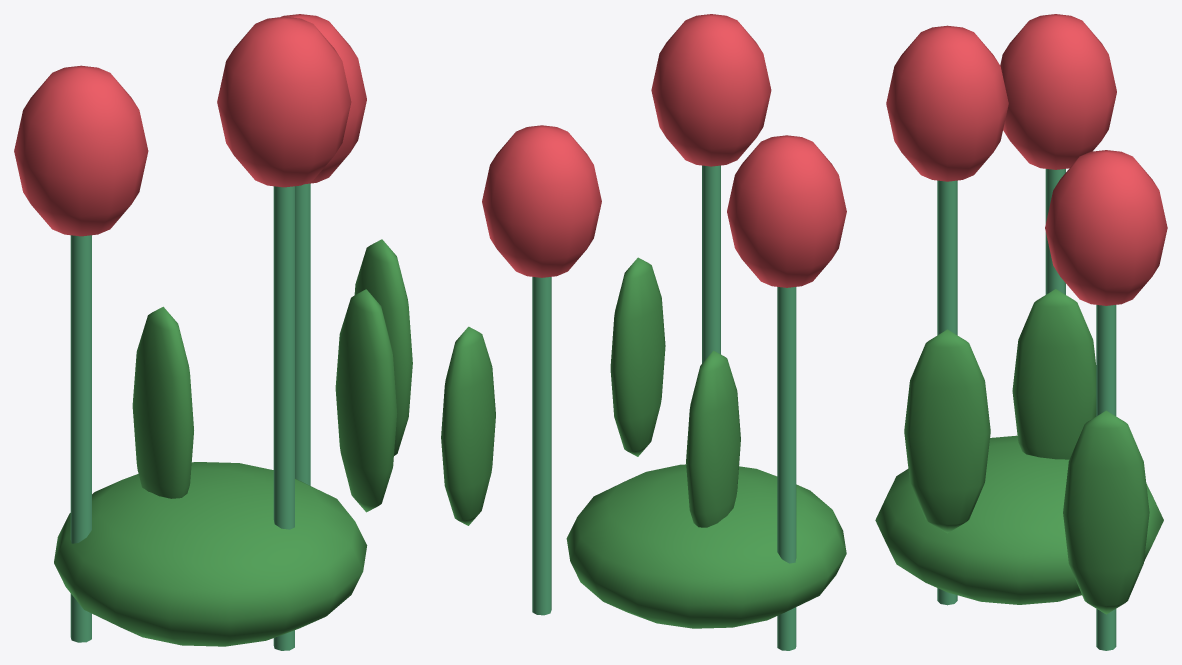
The model's file is tulips.glb.
3 renders of one model, left to right at view 1: azimuth 30°, elevation 25°; view 2: azimuth 150°, elevation 25°; view 3: azimuth 270°, elevation 25°, orthographic. The views are drawn at different scales.
Parts seen in each view (by area): view 1: tulips; view 2: tulips; view 3: tulips.
Part boxes in pixels (x1,y1,x2,y2): tulips: [14, 14, 412, 650]; tulips: [441, 14, 846, 650]; tulips: [875, 14, 1167, 650].
Bounding box in the file's own units: 0.595 × 0.8748 × 0.405.
